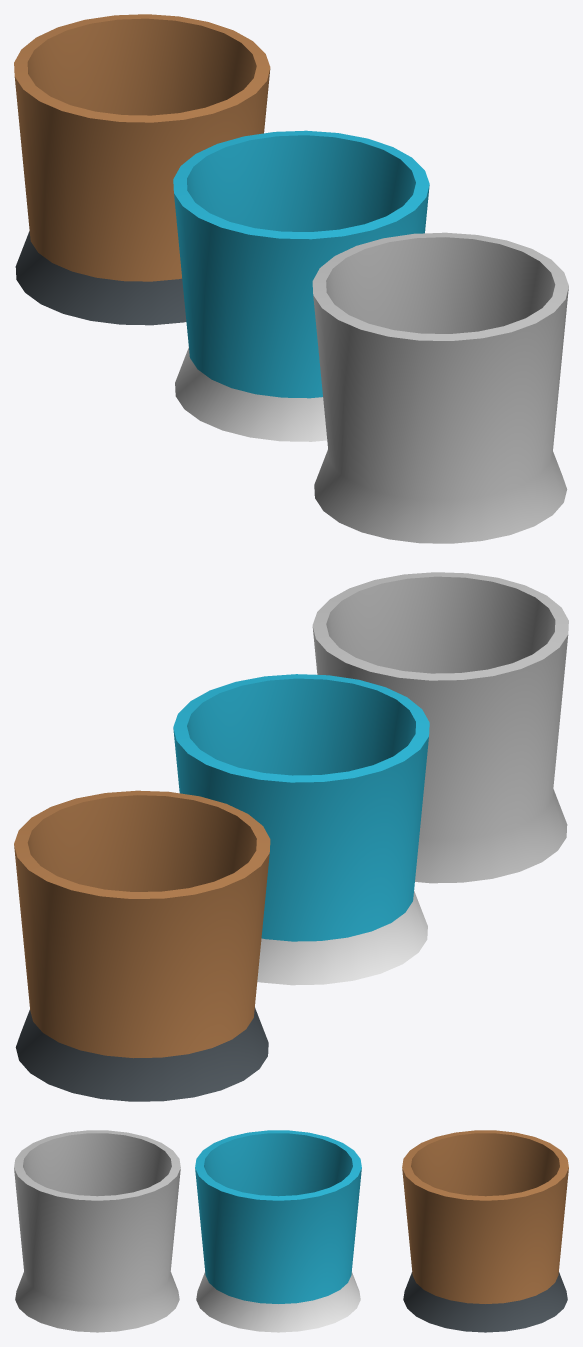
File: color shap 10.FBX
3 views of the same model, one above another, from view 1: azimuth 30°, elevation 25°; view 2: azimuth 150°, elevation 25°; view 3: azimuth 270°, elevation 25° (orthographic). The views are drawn at different scales.
Parts seen in each view (by area): view 1: Cylinder003, Cylinder001, Cylinder002; view 2: Cylinder001, Cylinder002, Cylinder003; view 3: Cylinder002, Cylinder001, Cylinder003.
Part boxes in pixels (left/top/right/bottom): Cylinder003: left=312, top=232, right=568, bottom=543; Cylinder001: left=14, top=14, right=270, bottom=325; Cylinder002: left=173, top=130, right=429, bottom=441; Cylinder001: left=14, top=790, right=270, bottom=1101; Cylinder002: left=173, top=674, right=429, bottom=985; Cylinder003: left=312, top=572, right=568, bottom=883; Cylinder002: left=195, top=1130, right=361, bottom=1332; Cylinder001: left=402, top=1130, right=568, bottom=1332; Cylinder003: left=14, top=1130, right=180, bottom=1332.
Bounding box in the file's own units: 165 × 145 × 549.
